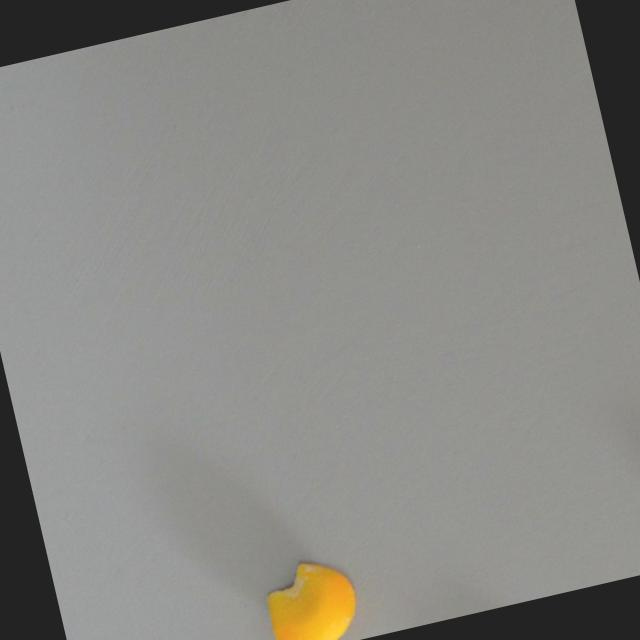no_canjicado: (256, 552, 363, 640)
